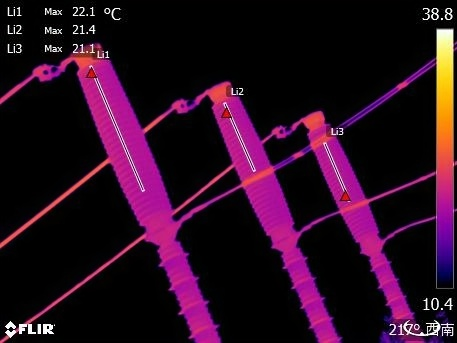circuit breaker: (63, 32, 224, 343), (207, 75, 342, 343), (302, 101, 422, 343)
